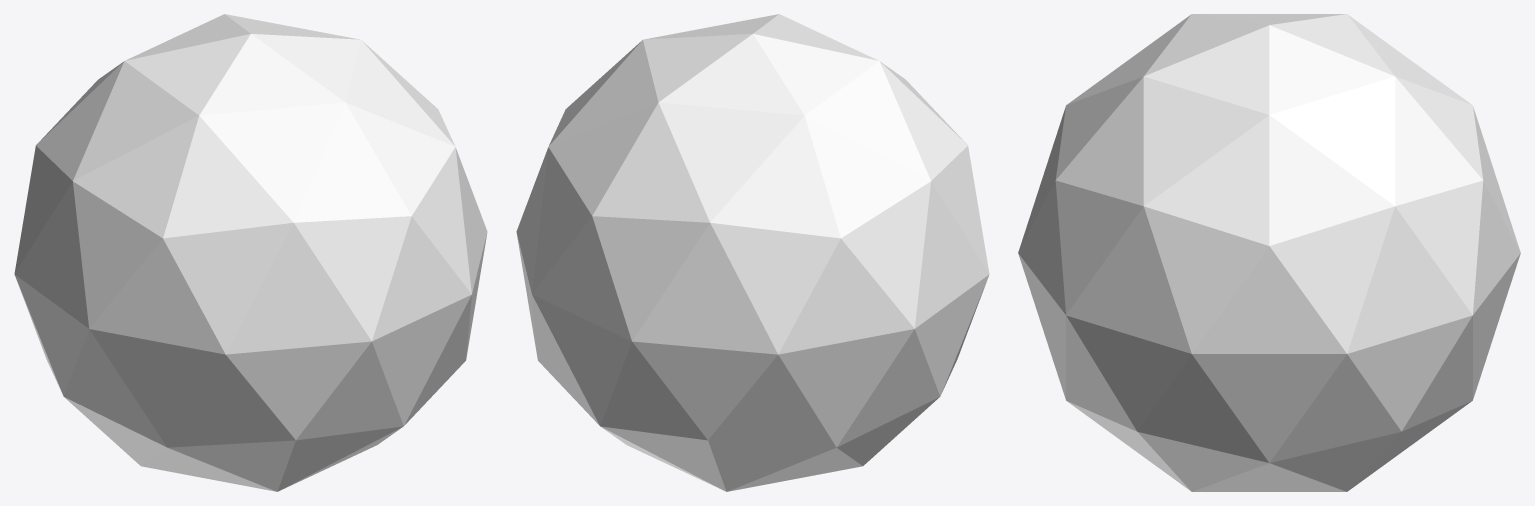
3 views of the same model, side by side, from view 1: azimuth 30°, elevation 25°; view 2: azimuth 150°, elevation 25°; view 3: azimuth 270°, elevation 25° (orthographic). The views are drawn at different scales.
Visible parts, largest first — view 1: ICO球; view 2: ICO球; view 3: ICO球.
Boxes of the visible parts, left/top/right/bottom form: ICO球: left=14, top=14, right=487, bottom=491; ICO球: left=516, top=14, right=989, bottom=491; ICO球: left=1018, top=14, right=1520, bottom=491.
Size of the model in its own units: 1.9 by 2 by 2.
Materials: 1 (1 with a texture image).
